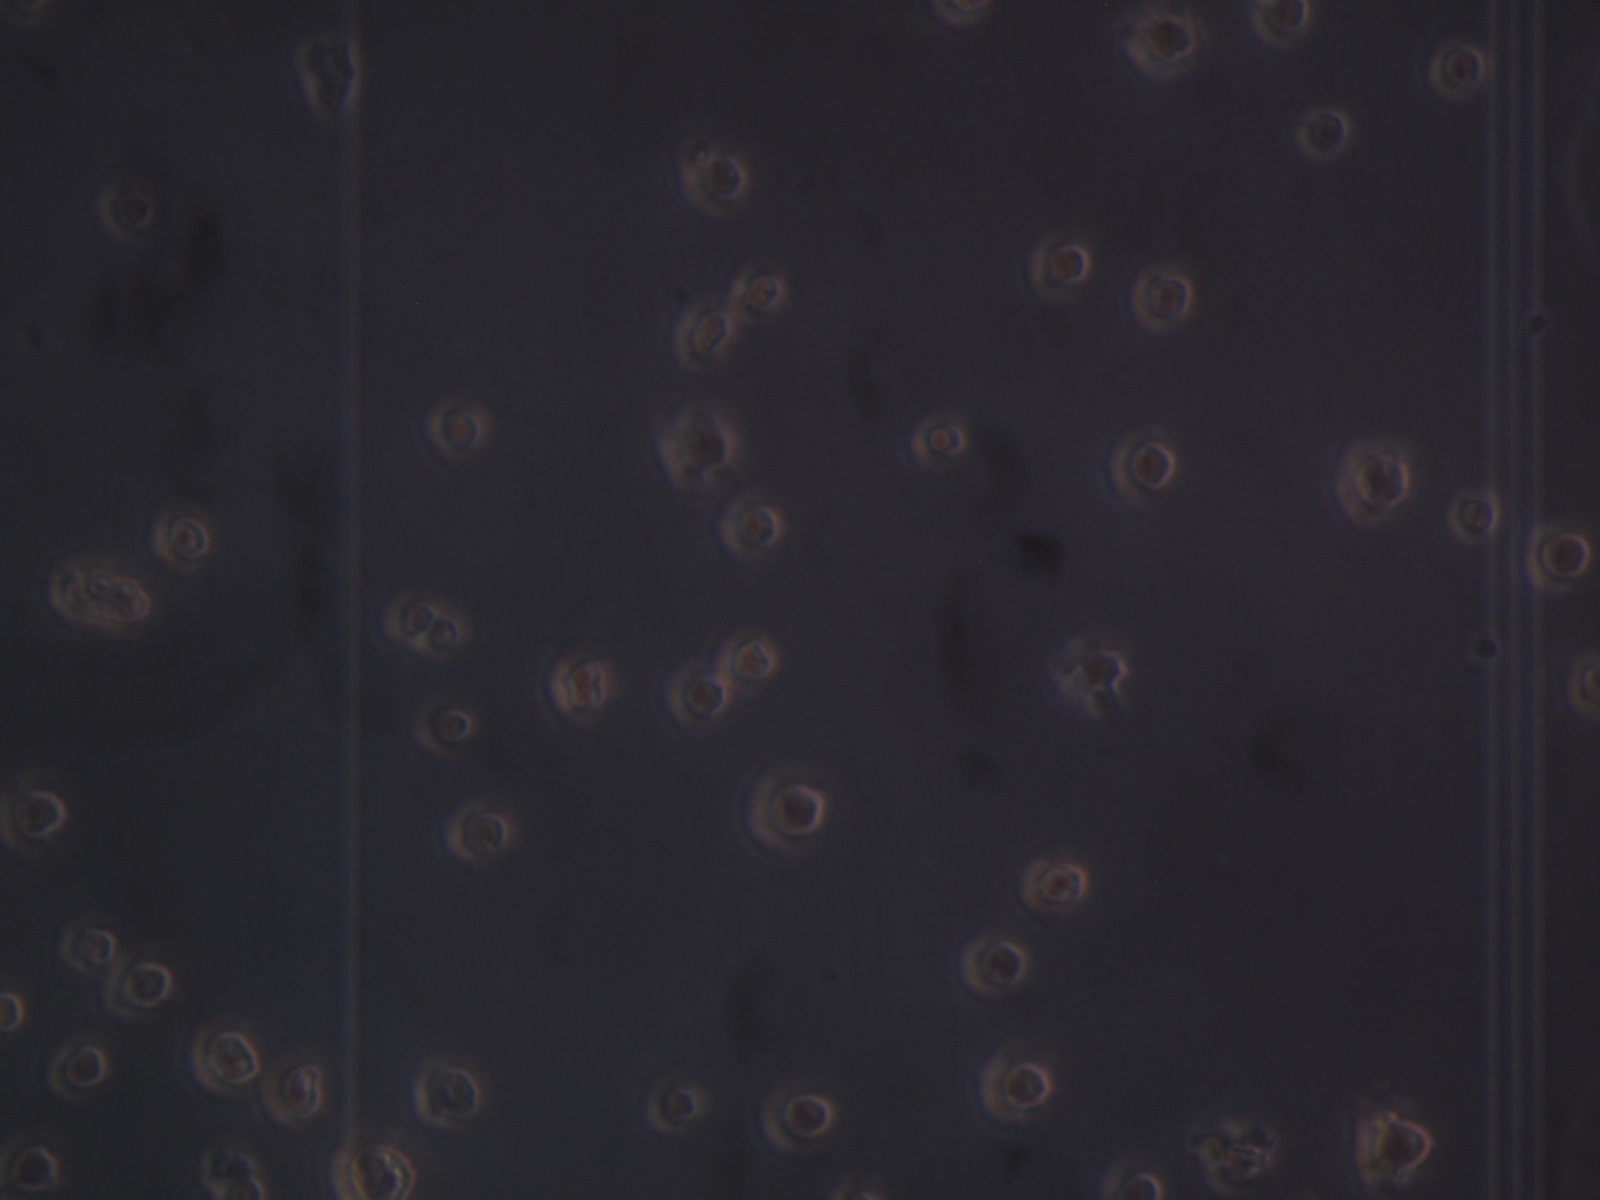hemo: (654, 405, 731, 492), (1337, 439, 1411, 528), (748, 771, 824, 855), (1106, 424, 1178, 508), (186, 1024, 263, 1099), (1356, 1113, 1435, 1184), (981, 1049, 1052, 1127), (330, 1141, 421, 1200), (762, 1085, 839, 1151), (1527, 521, 1592, 595), (1, 779, 67, 853), (422, 396, 490, 463), (1026, 233, 1090, 304), (263, 1054, 325, 1127), (1126, 16, 1199, 77), (413, 1063, 483, 1126), (149, 509, 214, 575), (718, 495, 785, 558), (957, 940, 1028, 1000), (663, 663, 728, 726), (549, 657, 609, 724), (1017, 858, 1089, 913), (108, 962, 173, 1022), (48, 1040, 107, 1105), (673, 304, 729, 372), (684, 156, 746, 218), (446, 800, 508, 862), (408, 697, 471, 758), (60, 914, 120, 977), (94, 178, 154, 239), (1133, 276, 1191, 337), (913, 416, 975, 471), (721, 630, 775, 692), (1246, 1, 1314, 48), (1432, 45, 1487, 102), (386, 592, 436, 650), (1073, 645, 1131, 695), (729, 267, 787, 316), (1298, 110, 1351, 163), (1449, 487, 1500, 541), (648, 1082, 700, 1133), (9, 1143, 62, 1192), (1107, 1163, 1165, 1200), (199, 1148, 260, 1180), (418, 615, 461, 654), (204, 1180, 270, 1200), (1, 988, 28, 1034)
